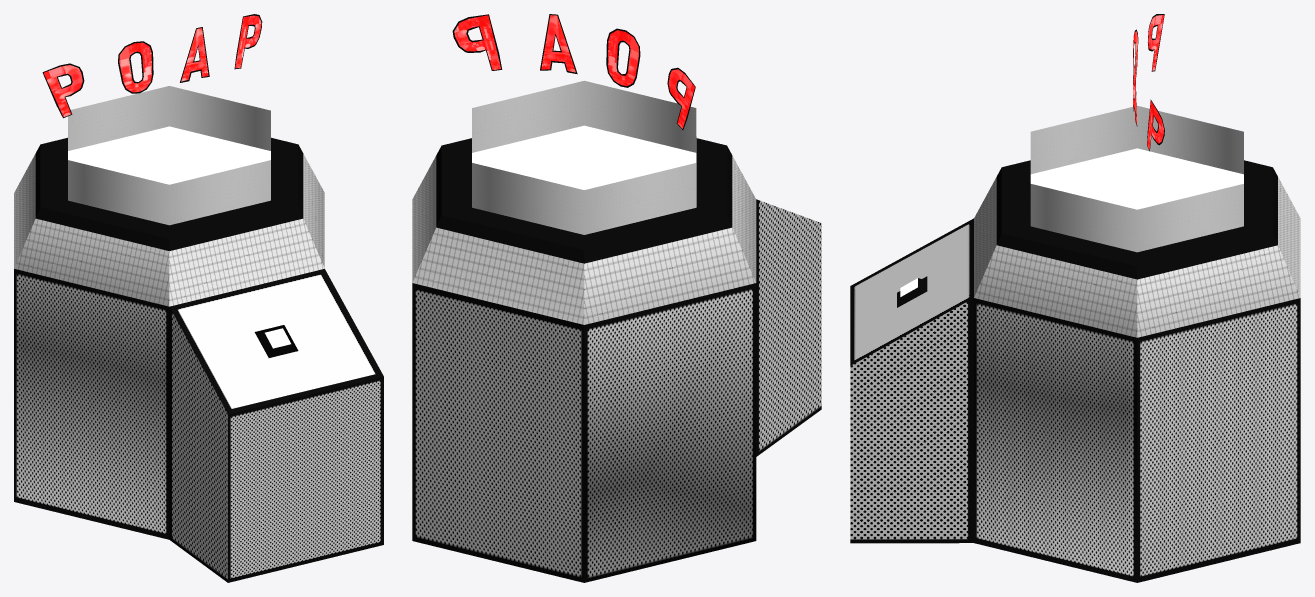
Rendered from poap-machine.glb.
3 renders of one model, left to right at view 1: azimuth 30°, elevation 25°; view 2: azimuth 150°, elevation 25°; view 3: azimuth 270°, elevation 25°, orthographic. The views are drawn at different scales.
Parts seen in each view (by area): view 1: PoapMachine; view 2: PoapMachine; view 3: PoapMachine.
Boxes of the visible parts, x1=… form: PoapMachine: x1=14, y1=14, x2=383, y2=582; PoapMachine: x1=412, y1=14, x2=821, y2=582; PoapMachine: x1=850, y1=14, x2=1300, y2=582.
Size of the model in its own units: 1.63 by 2.17 by 1.95.
6 materials, 4 textured.
